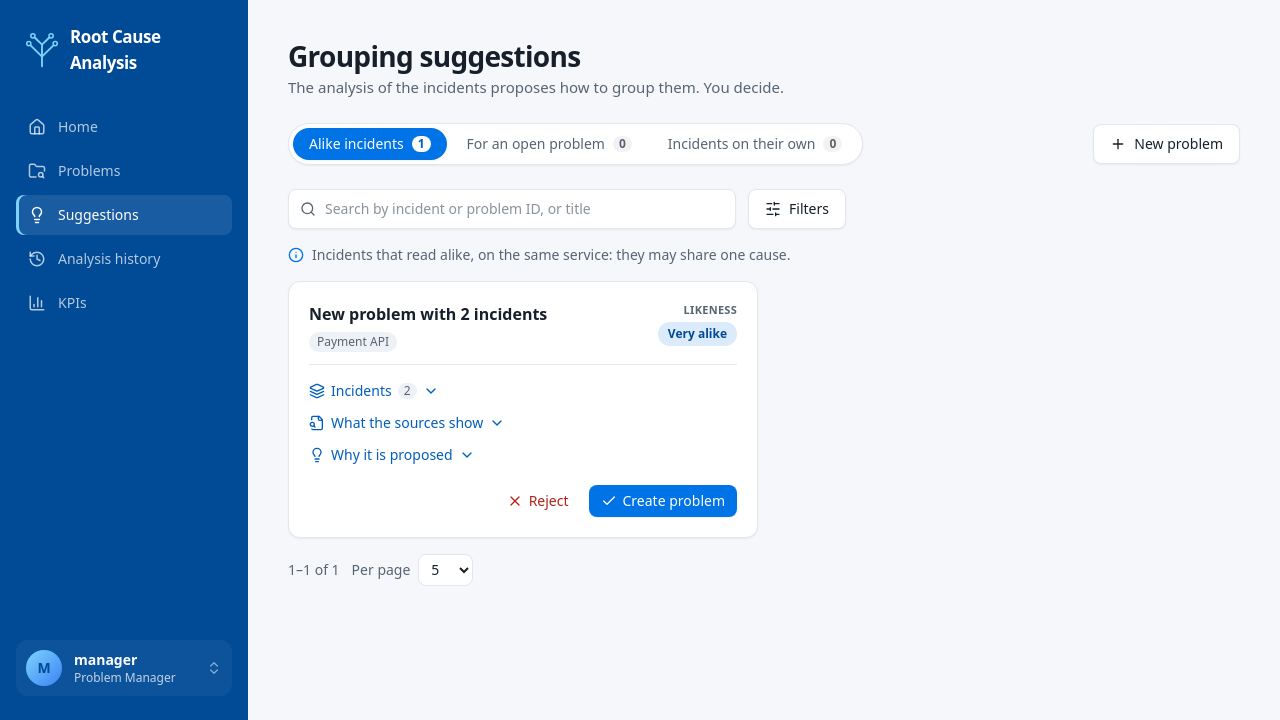
Test: Proposed problems page › creates a problem with the optional title and reason, and says the title rule
Click the button "Create problem" at (663, 500), box [588,484,737,516]
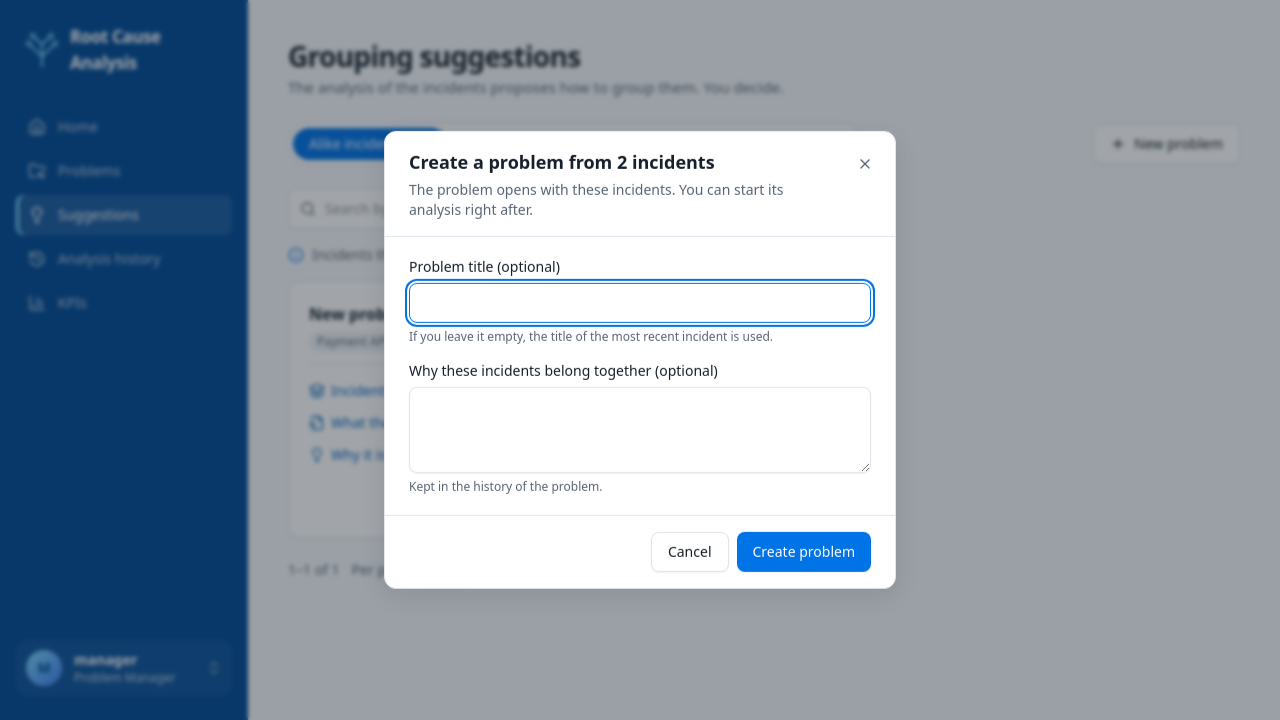
Expected: the text "If you leave it empty, the title of the most recent incident is used." is shown, [409,328,773,345]
Click the button "Create problem" at (804, 552), box [736,532,871,572]
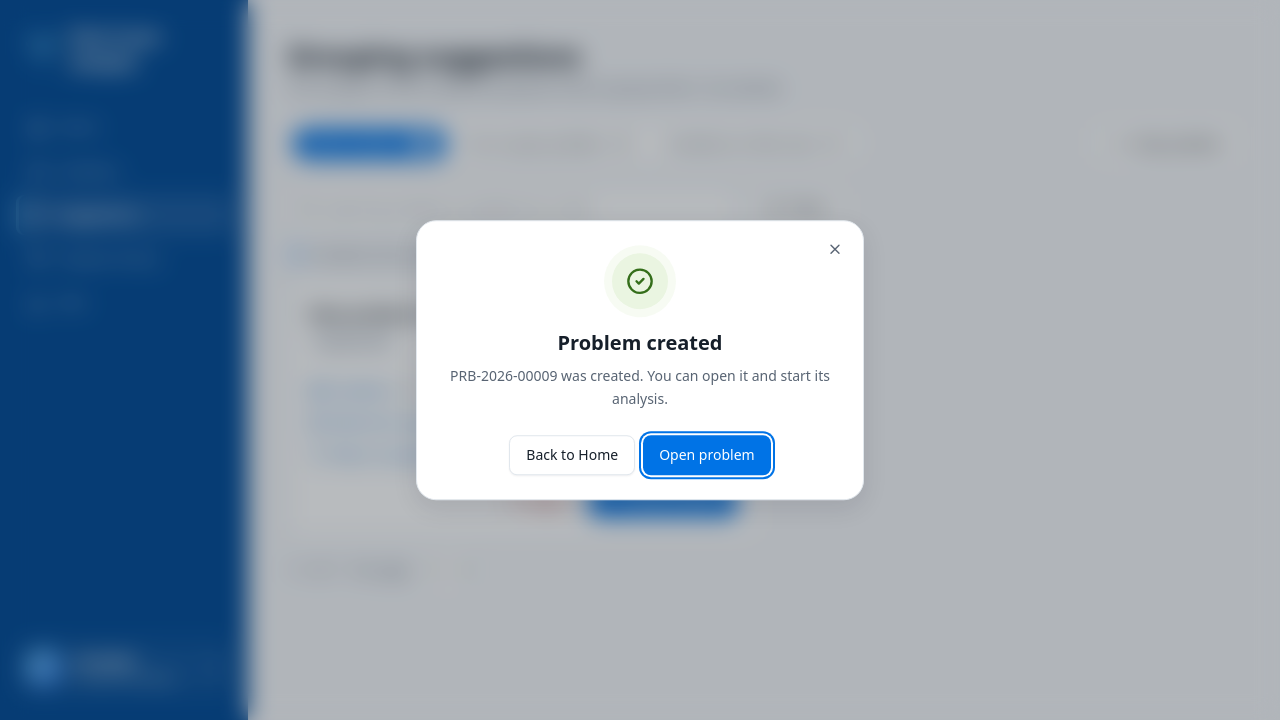
Expected: the heading "Problem created" is shown, [558,329,723,356]
Expected: the button "Open problem" is shown, [643,435,771,475]
Expected: the button "Back to Home" is shown, [509,435,635,475]
